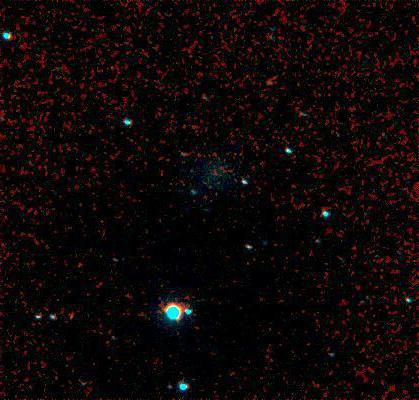star: (54, 303, 84, 333)
